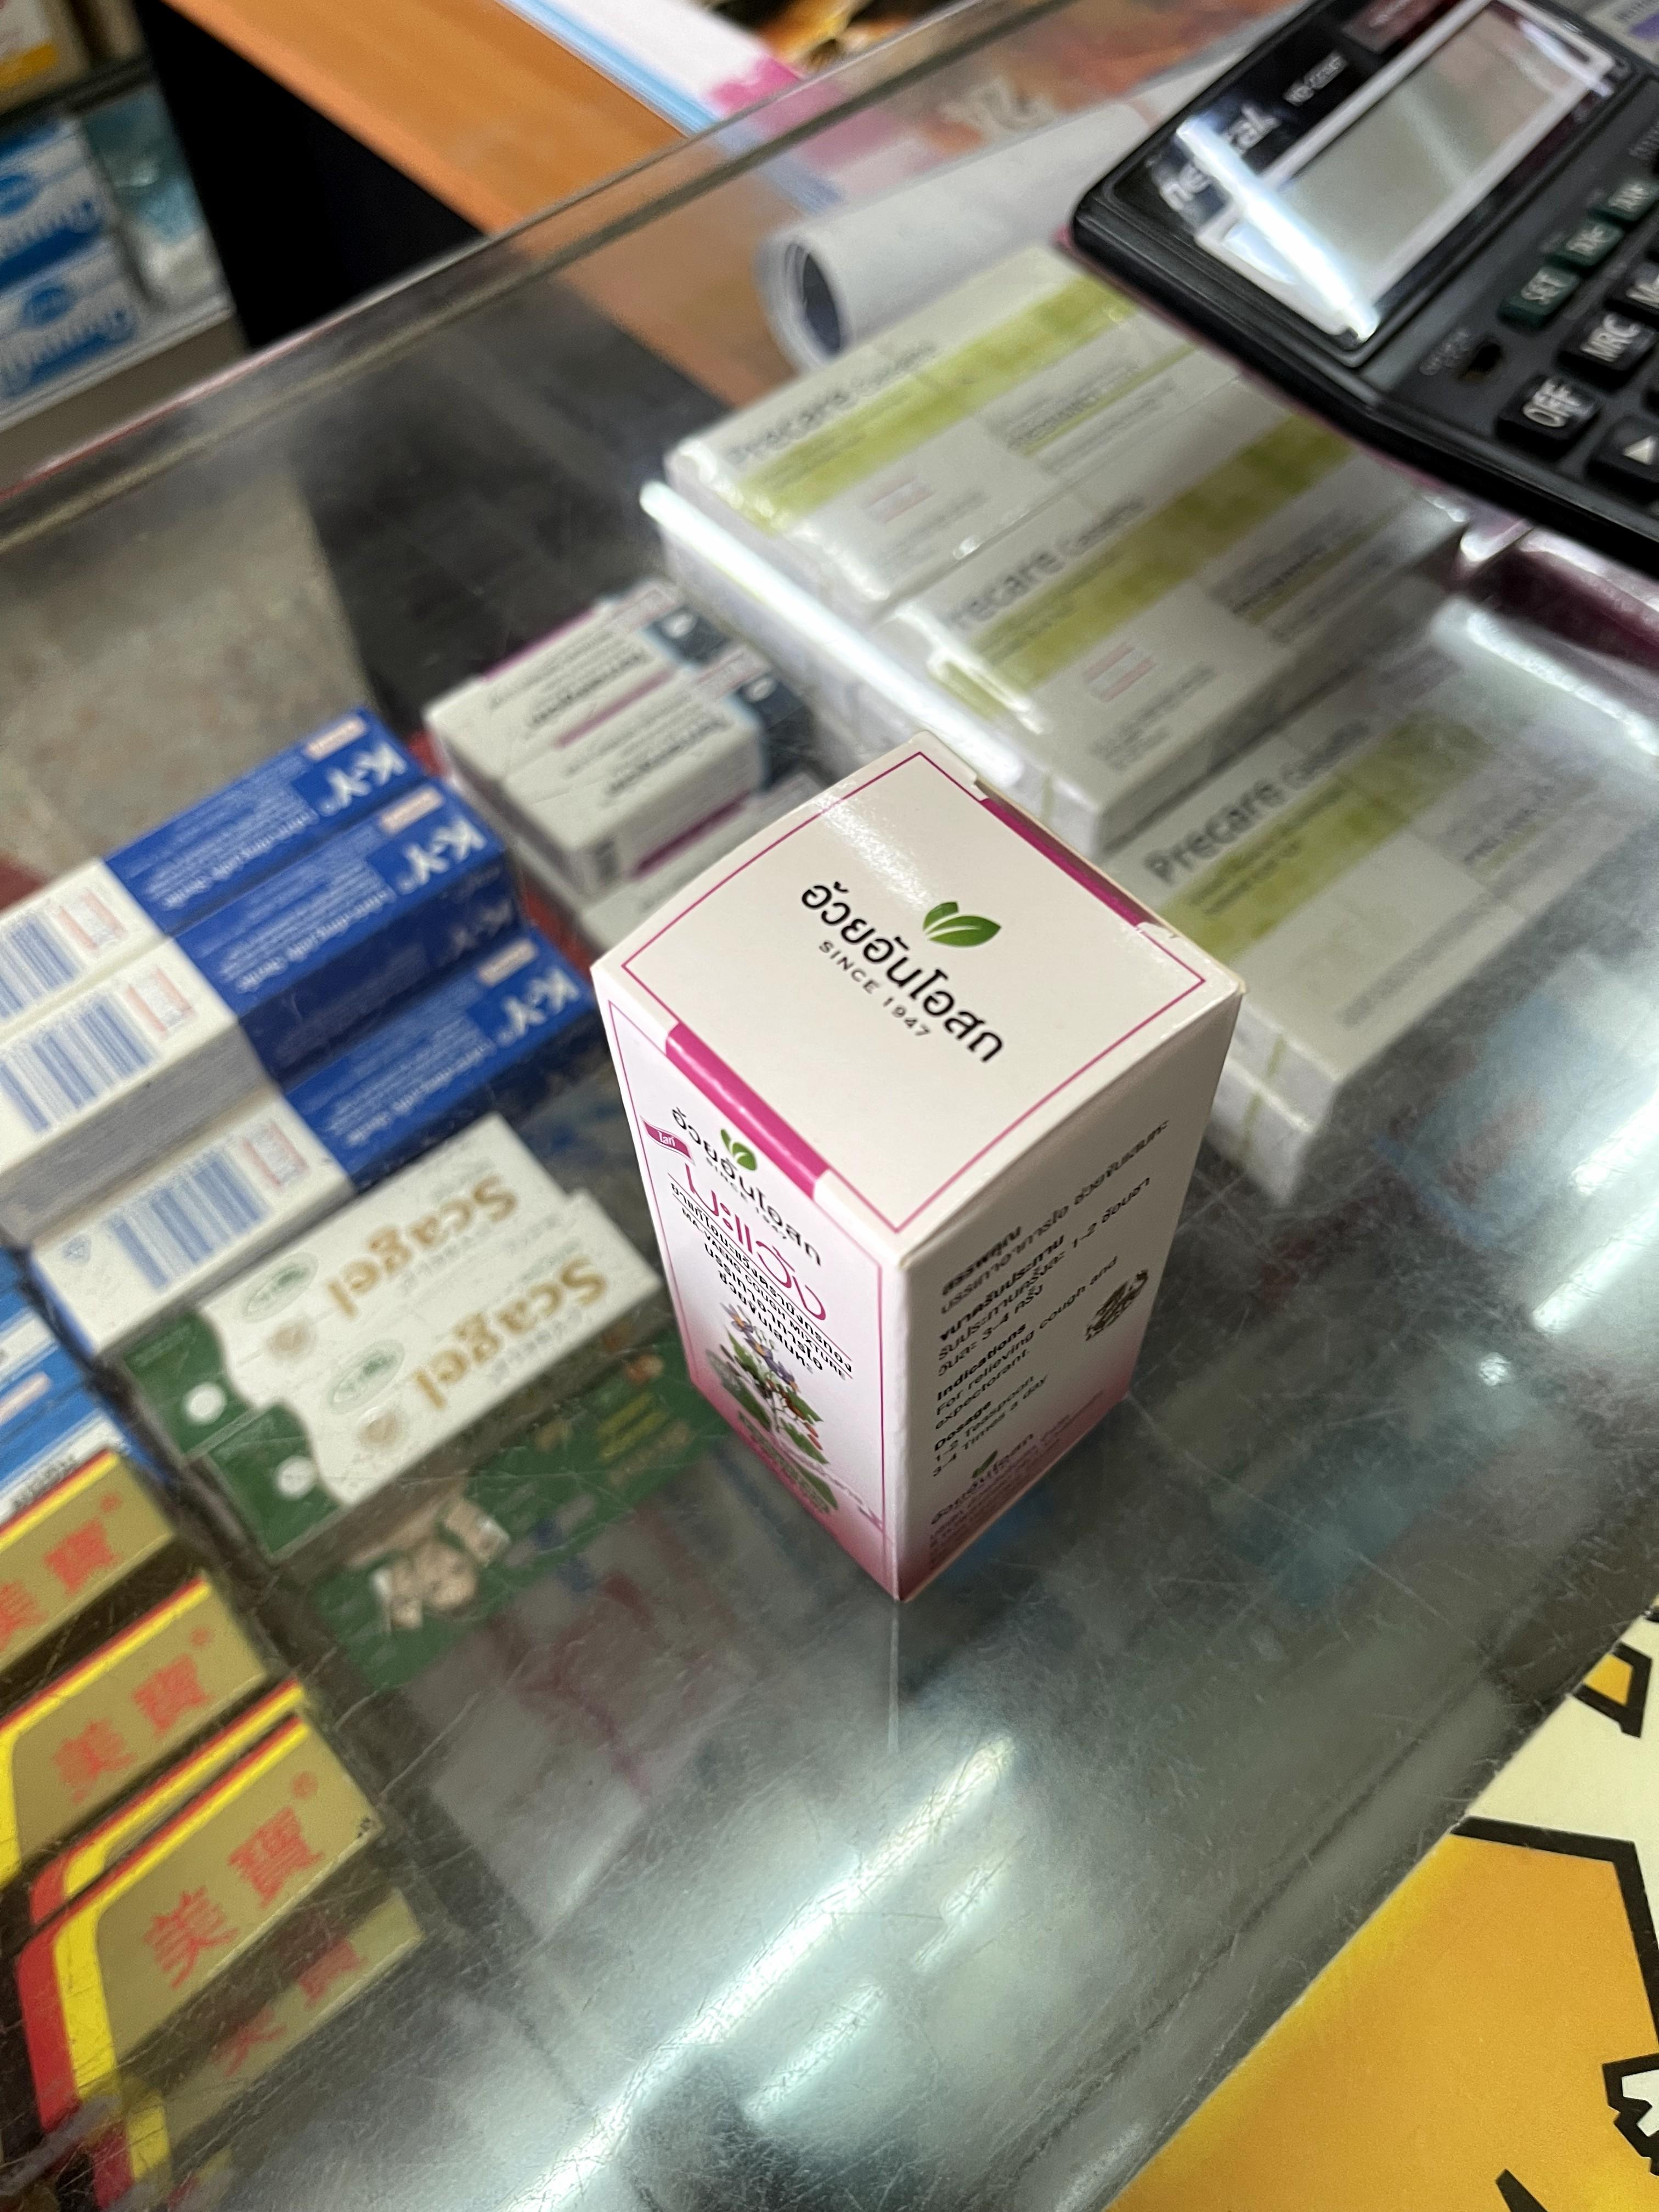Ma-Vaeng_Light: (596, 744, 1234, 1597)
